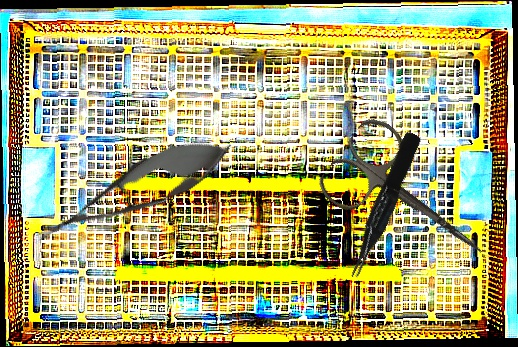Iris Scissors: (313, 111, 509, 292)
Micro Scissor: (24, 121, 243, 262)
Tissue Forceps: (339, 130, 428, 281)
